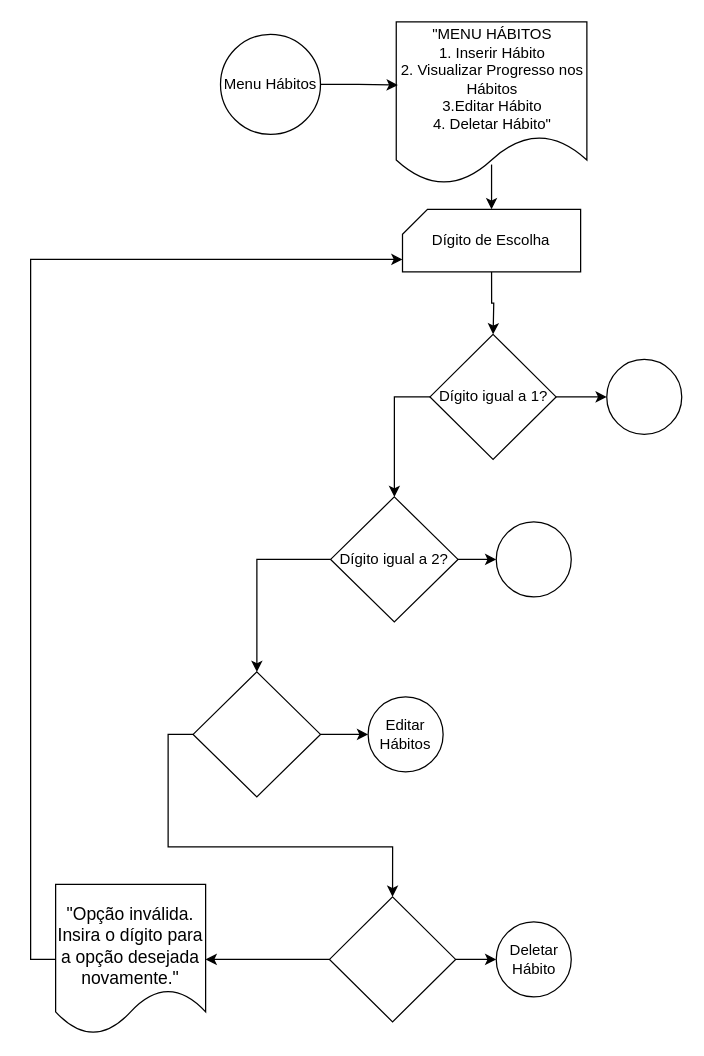
The diagram is 704 pixels wide and 1056 high, and some of its shapes have lost their labels. The box of each missing label's shape, as (x1, y1, x2, y2) in pixels:
Dígito igual a 3?: (192, 671, 320, 797)
Dígito igual a 4?: (328, 896, 456, 1022)
Inserir Hábito: (606, 358, 682, 434)
Visualizar Progresso nos Hábitos: (495, 521, 571, 597)
